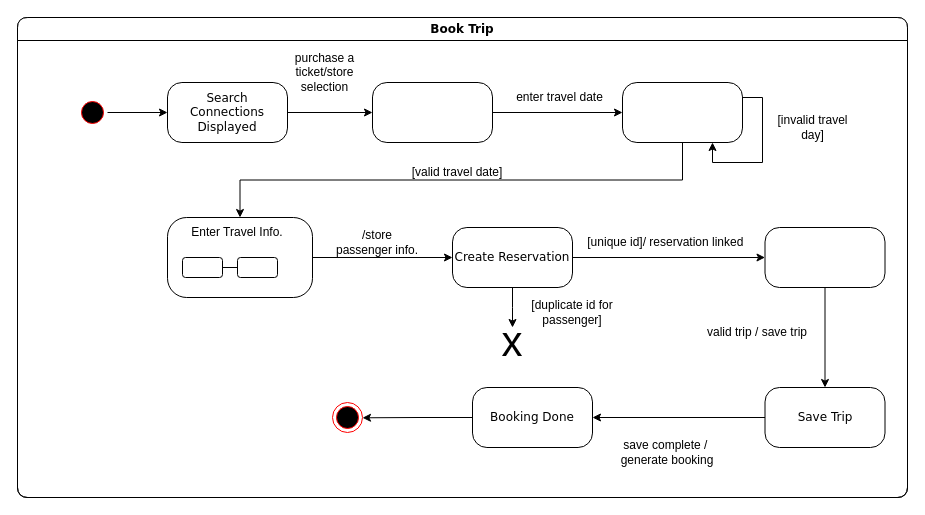
This 925x515 diagram has some shape labels left out. The shapes that lost their labels are listed below. From the top down, each one's centre as x and y in pixels, then its label:
At point (432, 112): "Trip Selected".
At point (682, 112): "Validate Date".
At point (824, 257): "Validating Trip".
